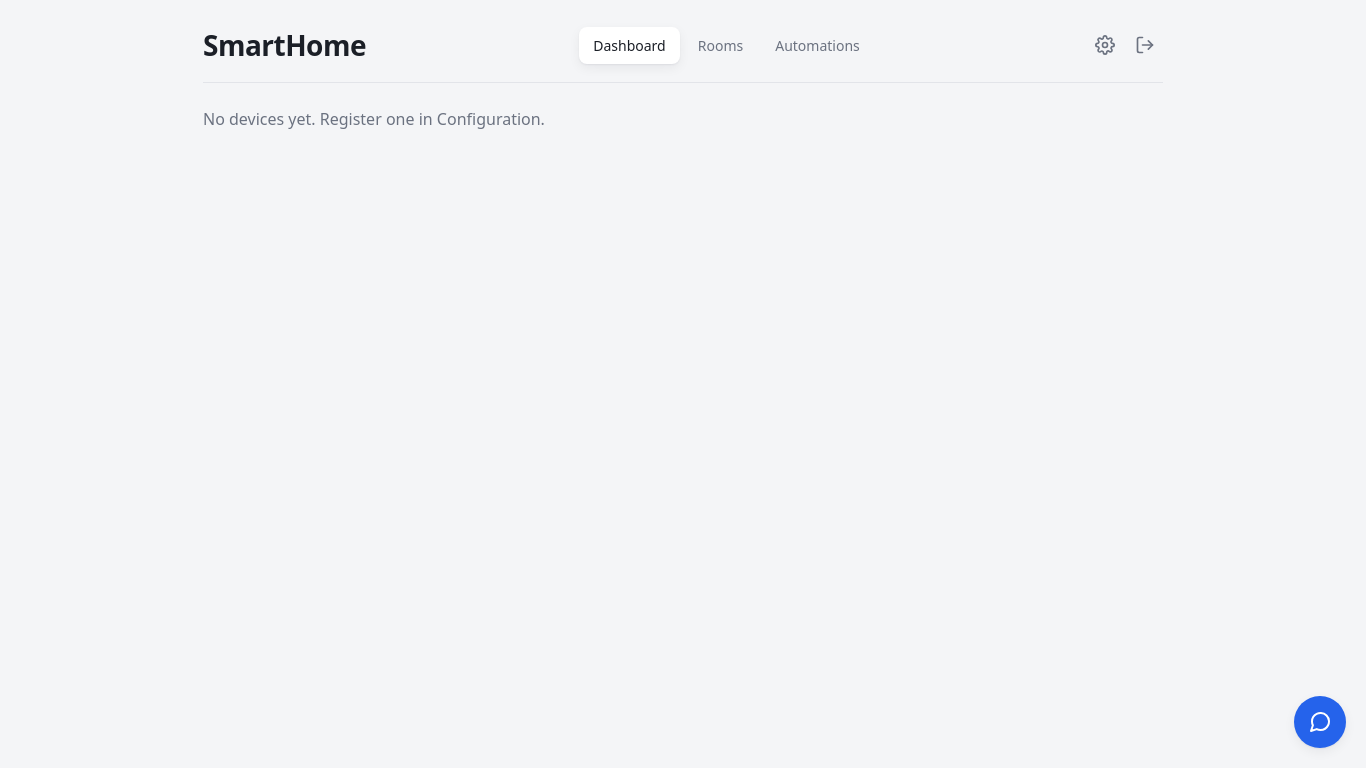
Test case: App › navigates to the configuration view
Check: the text "No devices yet. Register one in Configuration." is shown, box [203, 108, 545, 130]
What coordinates should you click on to do the following:
click the link named "Configuration"
I would click on:
 (1105, 45)
Its box is [1095, 35, 1115, 55].
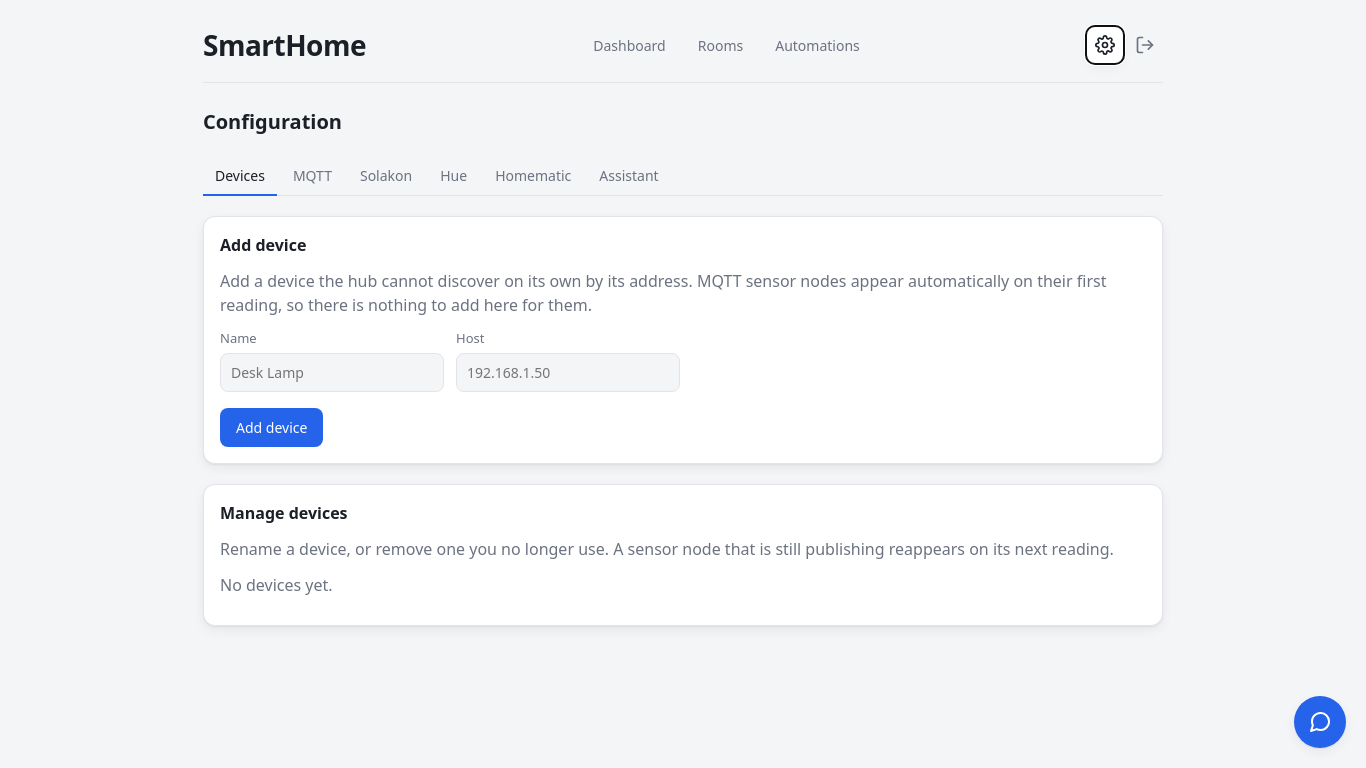
Check: the heading "Add device" is shown, box [220, 234, 306, 256]
What coordinates should you click on to do the following:
click the tab "Hue"
I would click on:
 (454, 176)
Its box is [428, 157, 479, 196].
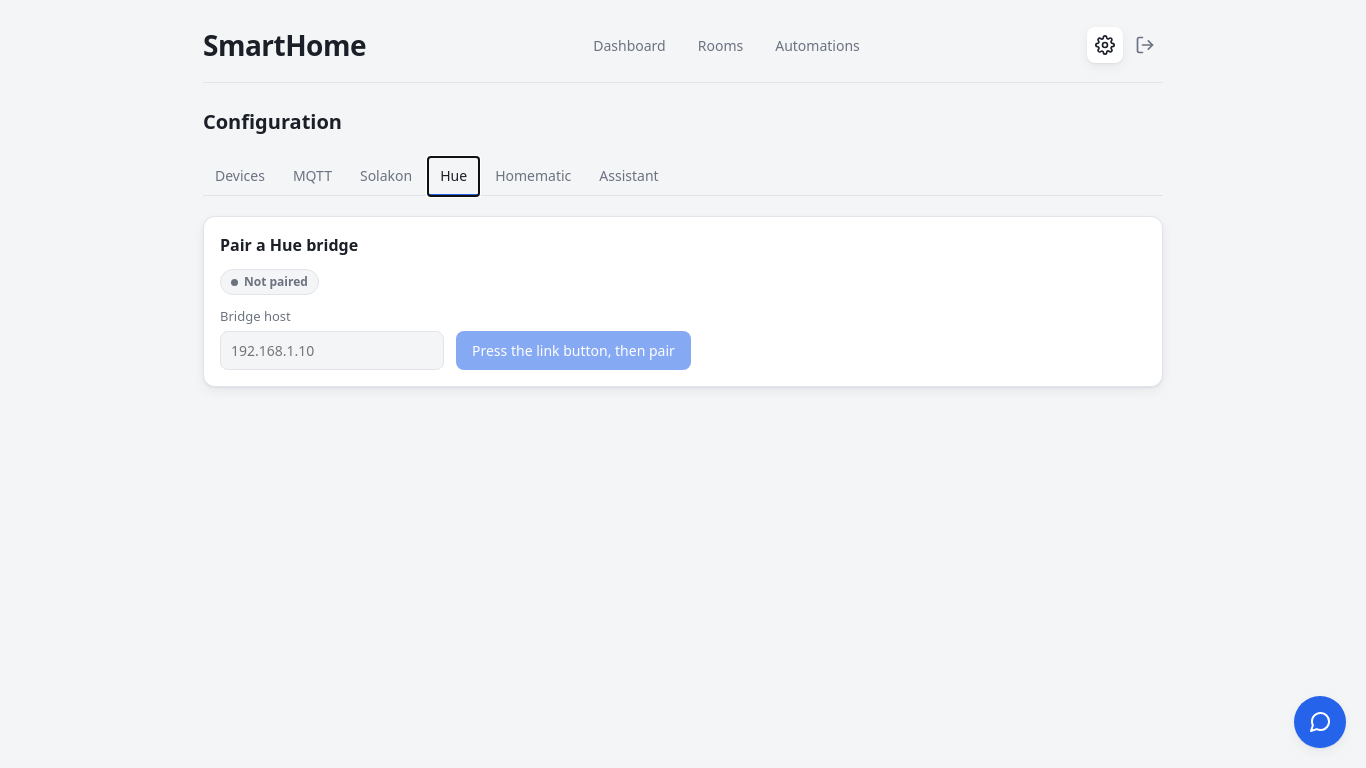
Check: the heading "Pair a Hue bridge" is shown, box [220, 234, 358, 256]
